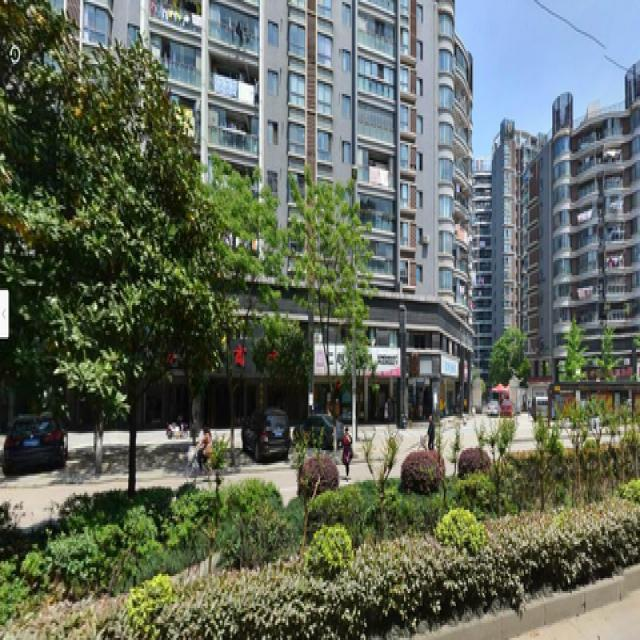magn: (80, 58, 196, 480)
